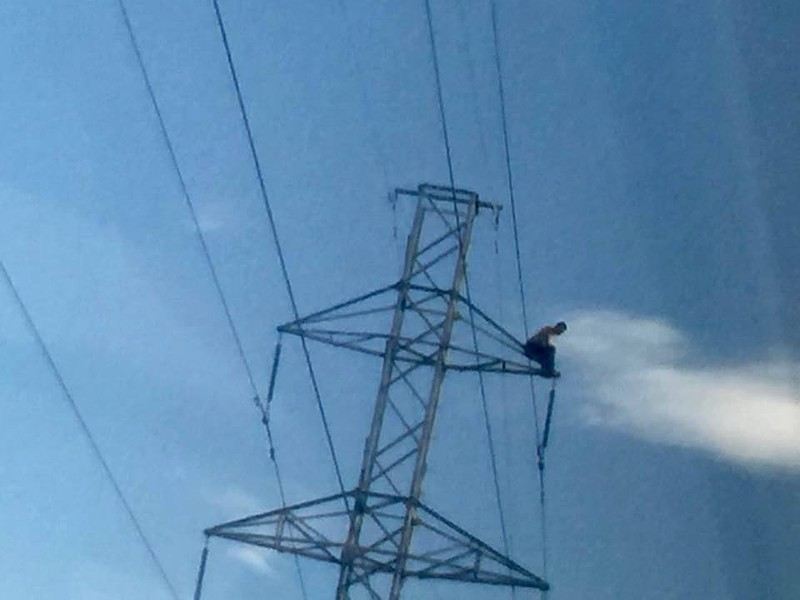infiltrator: (521, 313, 576, 392)
